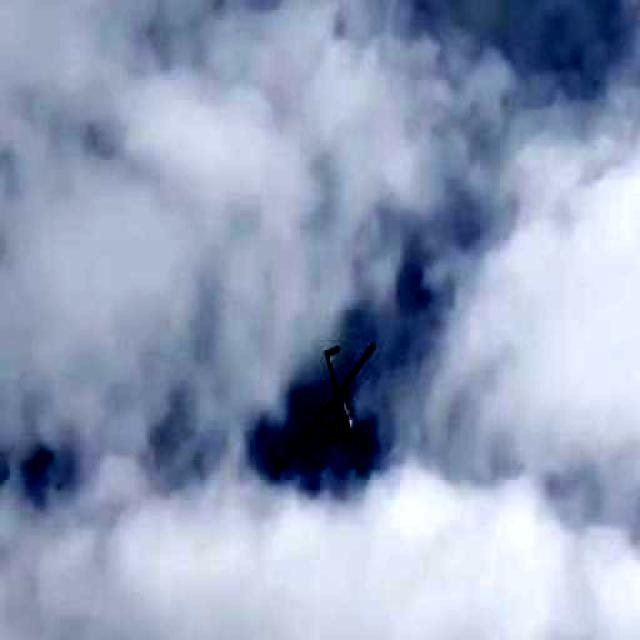drone: (269, 315, 405, 469)
